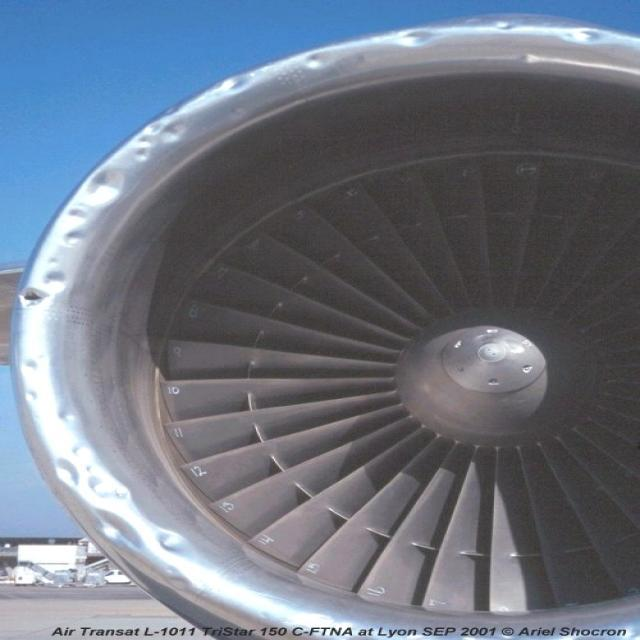dent: (50, 445, 205, 593), (28, 173, 129, 294)
